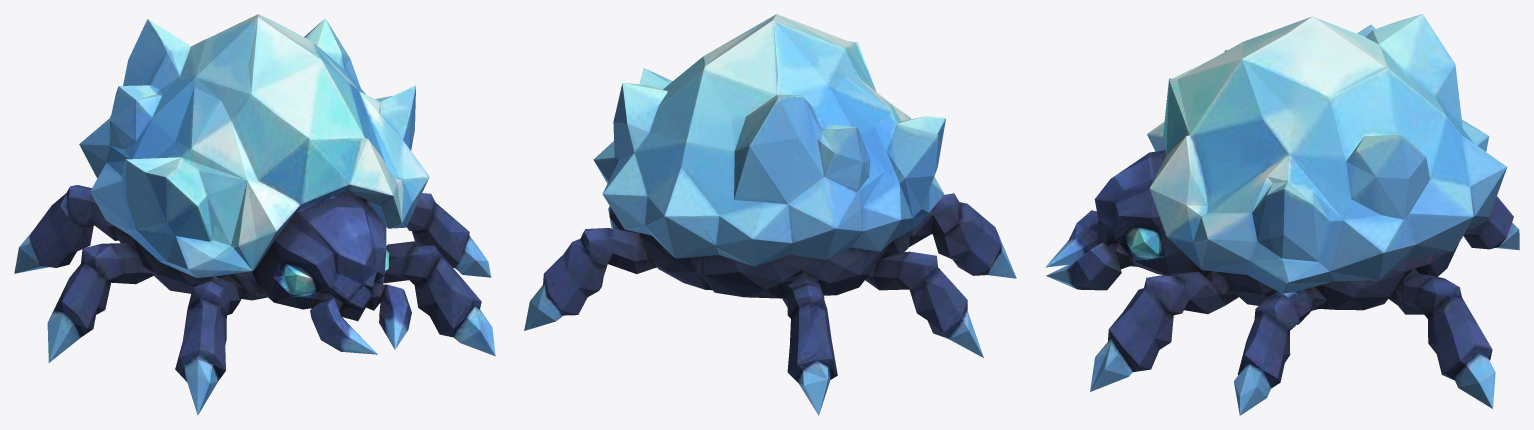
File: m_scarabee_glace.glb
3 renders of one model, left to right at view 1: azimuth 30°, elevation 25°; view 2: azimuth 150°, elevation 25°; view 3: azimuth 270°, elevation 25°, orthographic. The views are drawn at different scales.
Visible parts, largest first — view 1: monstre; view 2: monstre; view 3: monstre.
Boxes of the visible parts, x1,y1,x2,y2 form: monstre: (14, 14, 495, 415); monstre: (524, 14, 1016, 415); monstre: (1045, 14, 1519, 415).
Size of the model in its own units: 1 by 0.6845 by 0.9547.
1 material, 1 textured.
